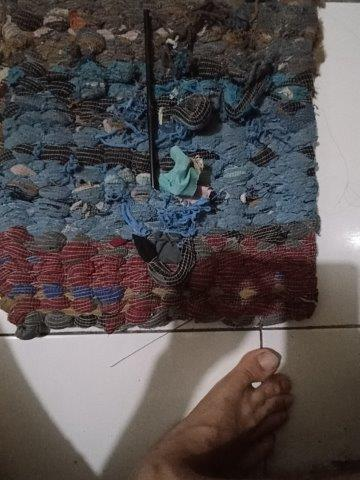sedotan: (143, 10, 158, 187)
